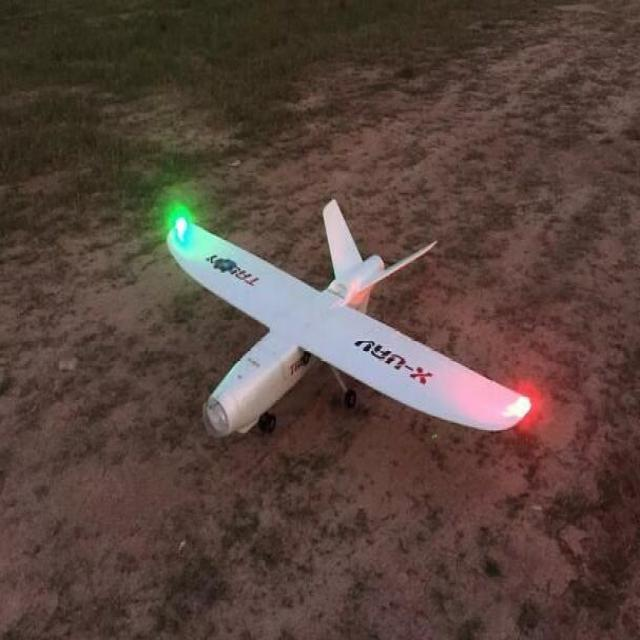UAV: (160, 228, 512, 446)
